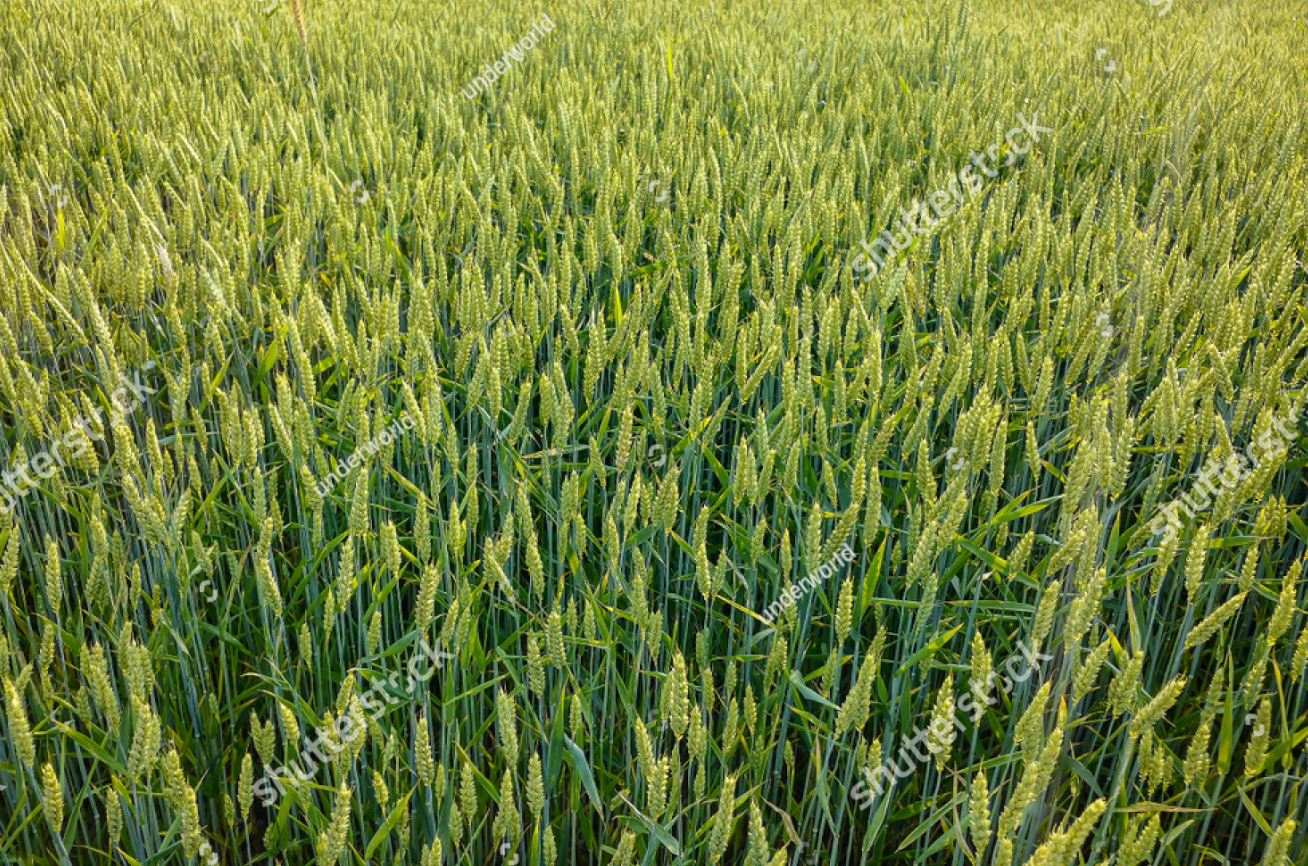Wheat: (215, 194, 915, 620)
